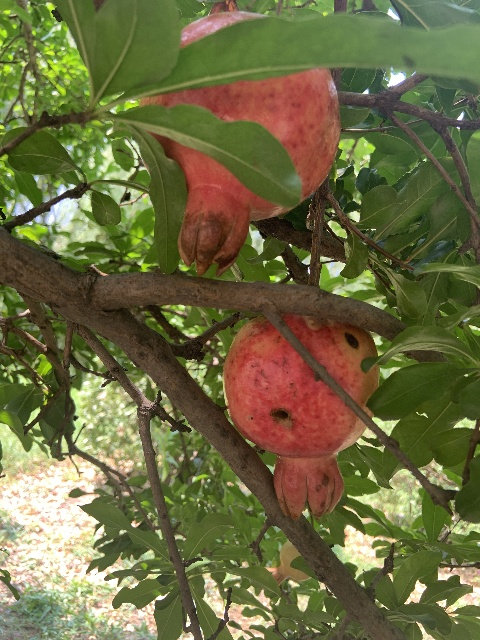mid-growth: (263, 540, 311, 586)
ripe: (139, 11, 343, 276), (224, 315, 379, 518)
